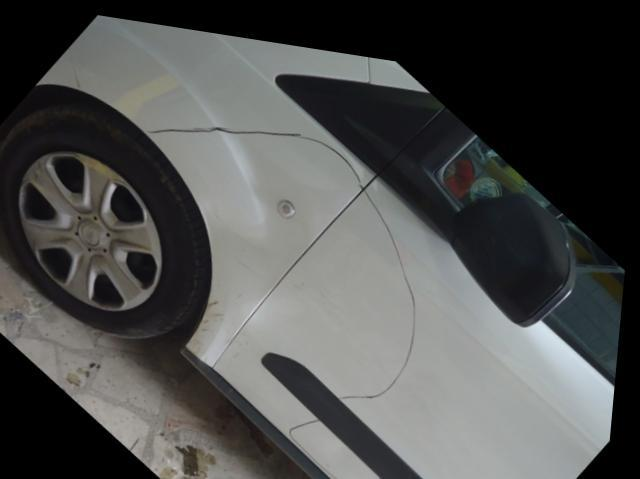dent: (208, 139, 346, 294), (319, 417, 364, 462)
